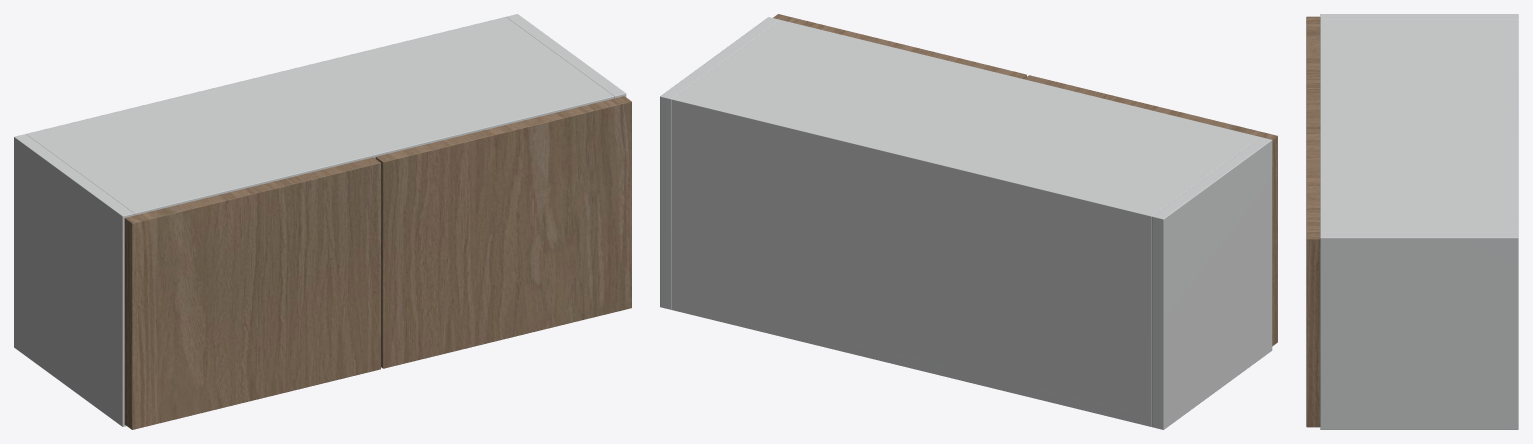
The model's file is oppein-pb-mnw-w3012.glb.
3 renders of one model, left to right at view 1: azimuth 30°, elevation 25°; view 2: azimuth 150°, elevation 25°; view 3: azimuth 270°, elevation 25°, orthographic. The views are drawn at different scales.
Parts seen in each view (by area): view 1: Door, Door.001, Cabinet top, Cabinet side, Cabinet back, Cabinet side.001; view 2: Cabinet back, Cabinet top, Cabinet side, Cabinet bottom, Cabinet side.001, Door, Door.001; view 3: Cabinet top, Cabinet side.001, Door.001, Cabinet back, Door, Cabinet side.
Boxes of the visible parts, box(x1,y1,x2,y2) form: Door: box(124, 157, 380, 429); Door.001: box(375, 96, 631, 368); Cabinet top: box(30, 17, 614, 215); Cabinet side: box(14, 134, 134, 426); Cabinet back: box(26, 17, 509, 136); Cabinet side.001: box(506, 14, 626, 98); Cabinet back: box(672, 96, 1155, 426); Cabinet top: box(673, 20, 1259, 228); Cabinet side: box(1152, 137, 1272, 429); Cabinet bottom: box(672, 298, 1151, 426); Cabinet side.001: box(660, 17, 779, 309); Door: box(1024, 75, 1277, 346); Door.001: box(773, 14, 1026, 78); Cabinet top: box(1320, 19, 1517, 232); Cabinet side.001: box(1320, 232, 1518, 429); Door.001: box(1306, 128, 1320, 427); Cabinet back: box(1510, 19, 1518, 232); Door: box(1306, 16, 1320, 128); Cabinet side: box(1320, 14, 1518, 19).
Bounding box in the file's own units: 0.762 × 0.3048 × 0.3048.
Materials: 2 (1 with a texture image).
